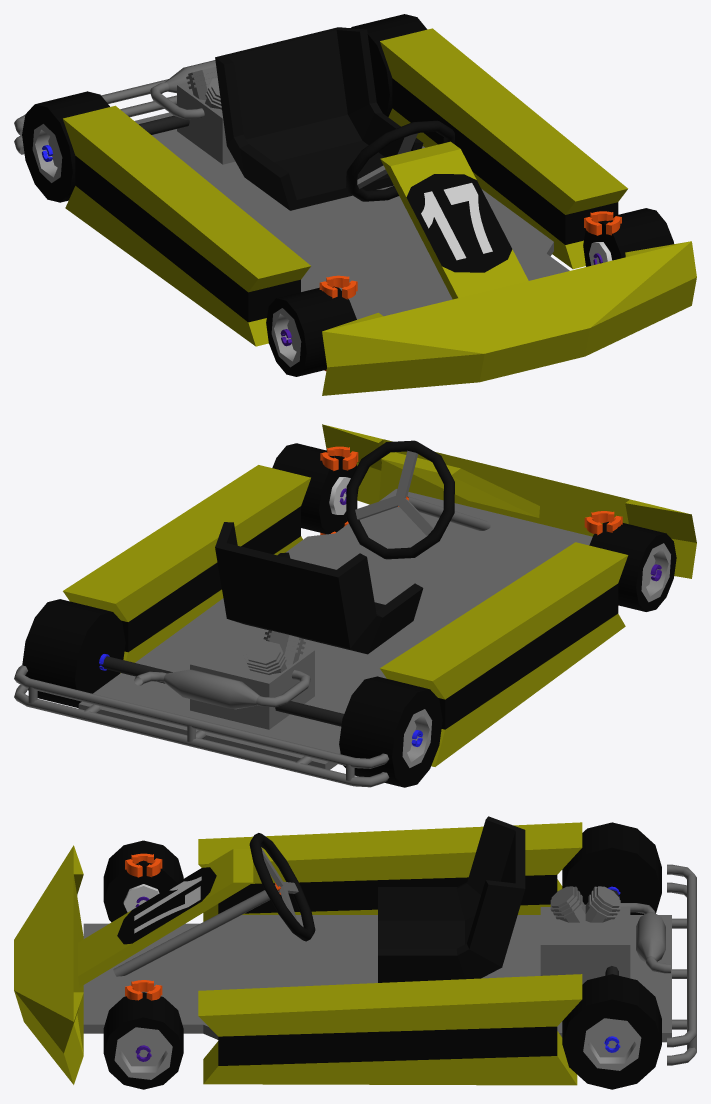
File: carro.obj
3 views of the same model, one above another, from view 1: azimuth 30°, elevation 25°; view 2: azimuth 150°, elevation 25°; view 3: azimuth 270°, elevation 25° (orthographic).
Parts seen in each view (by area): view 1: G-convexhull.003, G-convexhull.018, G-convexhull.024, G-convexhull.016, G-convexhull.025, G-convexhull.009, G-convexhull.017, G-convexhull.020, G-cylinder.184, G-convexhull.021, G-convexhull.014, G-cylinder.181 (+23 smaller); view 2: G-convexhull.003, G-convexhull.024, G-convexhull.018, G-convexhull.009, G-Object.014, G-cylinder.181, G-cylinder.185, G-convexhull.016, G-convexhull.017, G-convexhull.002, G-Object.015, G-convexhull.014 (+21 smaller); view 3: G-convexhull.018, G-convexhull.003, G-convexhull.024, G-convexhull.020, G-convexhull.019, G-cylinder.185, G-convexhull.025, G-Object.014, G-cylinder.182, G-convexhull.016, G-cylinder.181, G-Object.015 (+24 smaller).
Part boxes in pixels (x1,y1,x2,y2): G-convexhull.003: (134, 112, 553, 301); G-convexhull.018: (380, 28, 627, 214); G-convexhull.024: (63, 105, 310, 292); G-convexhull.016: (384, 256, 629, 381); G-convexhull.025: (380, 141, 528, 299); G-convexhull.009: (216, 27, 347, 139); G-convexhull.017: (75, 156, 300, 322); G-convexhull.020: (392, 78, 618, 244); G-cylinder.184: (266, 286, 356, 376); G-convexhull.021: (322, 312, 483, 367); G-convexhull.014: (65, 186, 268, 346); G-cylinder.181: (22, 91, 109, 202); G-convexhull.003: (78, 533, 518, 769); G-convexhull.024: (380, 542, 628, 699); G-convexhull.018: (63, 465, 310, 621); G-convexhull.009: (215, 543, 349, 648); G-Object.014: (335, 489, 592, 578); G-cylinder.181: (339, 676, 442, 787); G-cylinder.185: (22, 599, 125, 707); G-convexhull.016: (379, 439, 629, 536); G-convexhull.017: (438, 583, 618, 729); G-convexhull.002: (346, 440, 454, 559); G-Object.015: (190, 631, 314, 729); G-convexhull.014: (431, 614, 625, 766); G-convexhull.018: (198, 974, 582, 1036); G-convexhull.003: (203, 915, 671, 1042); G-convexhull.024: (198, 822, 582, 883); G-convexhull.020: (218, 1026, 557, 1065); G-convexhull.019: (203, 1031, 577, 1085); G-cylinder.185: (562, 974, 661, 1089); G-convexhull.025: (78, 849, 253, 986); G-Object.014: (83, 923, 203, 1033); G-cylinder.182: (103, 992, 183, 1089); G-convexhull.016: (14, 875, 83, 1054); G-cylinder.181: (562, 822, 661, 914); G-Object.015: (540, 907, 630, 984).
Size of the model in its own units: 3.23 by 1.41 by 5.22.
